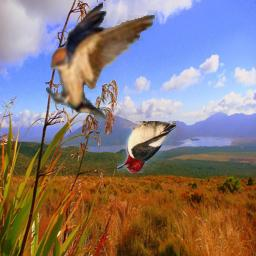Swallow: (46, 2, 157, 129)
Woodpecker: (117, 121, 176, 173)
